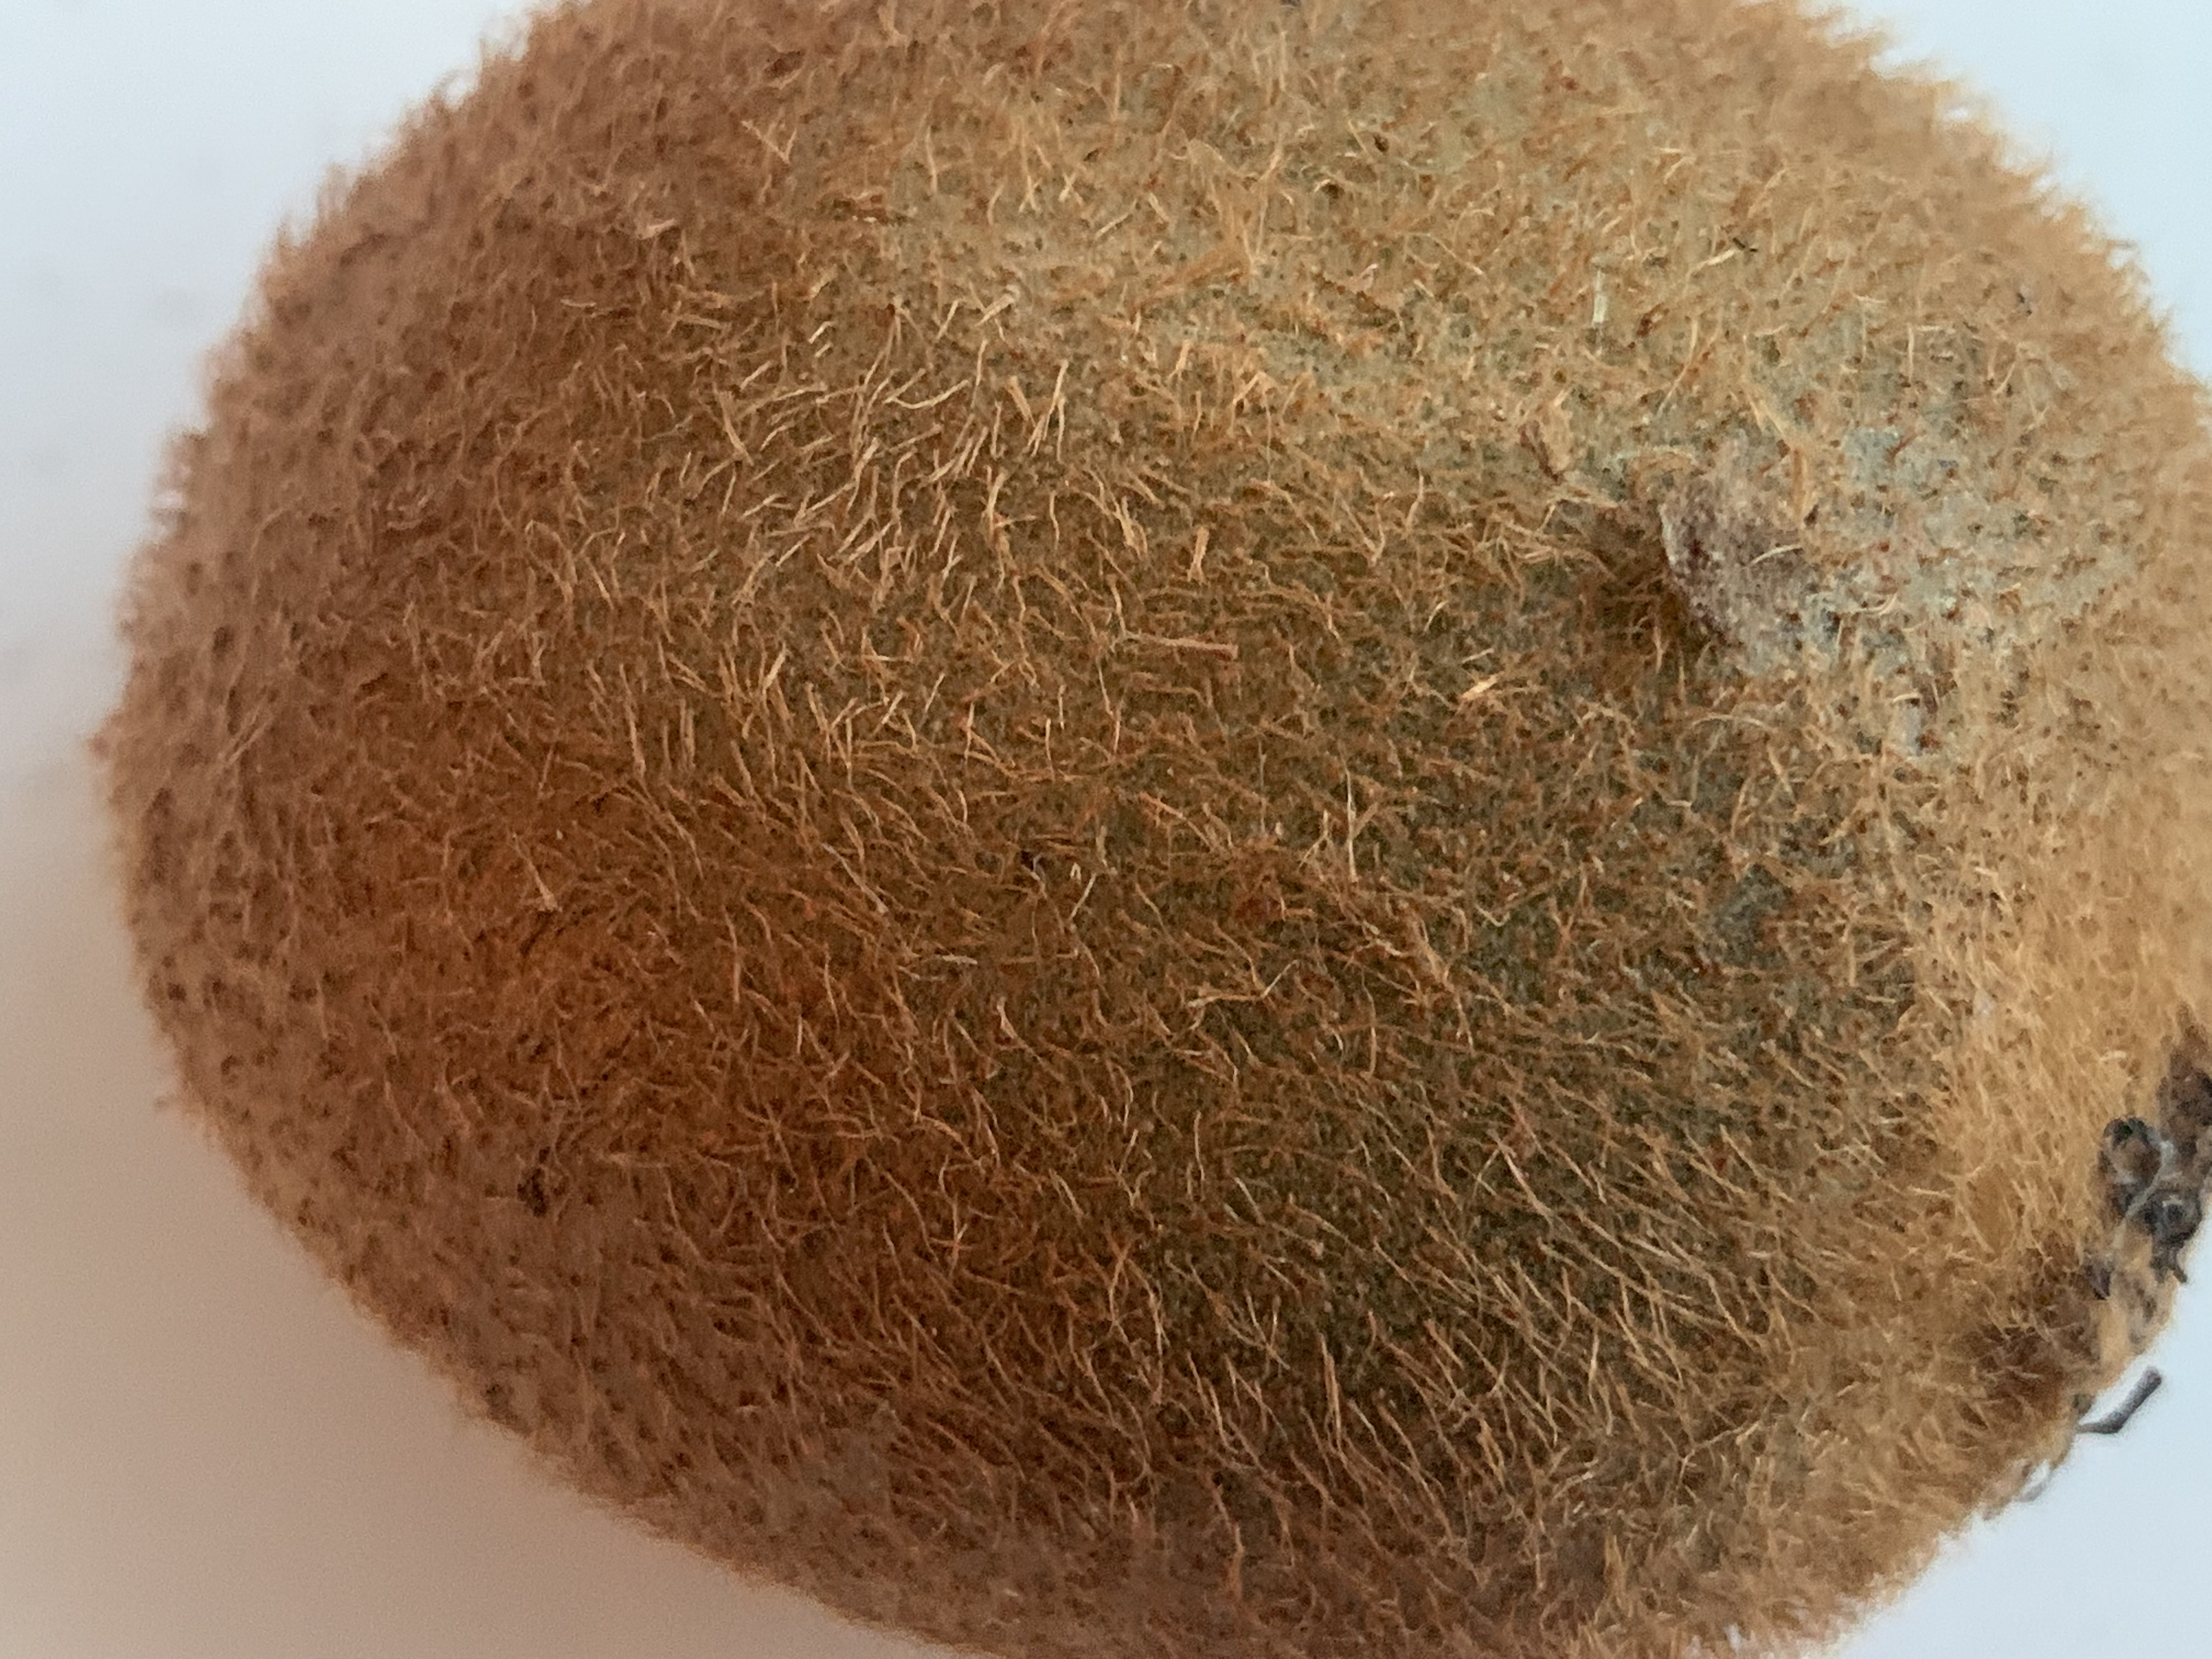kiwi: (21, 12, 2212, 1657)
